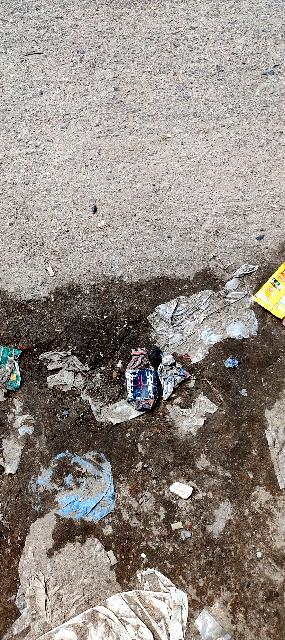bottle: (123, 330, 167, 416)
